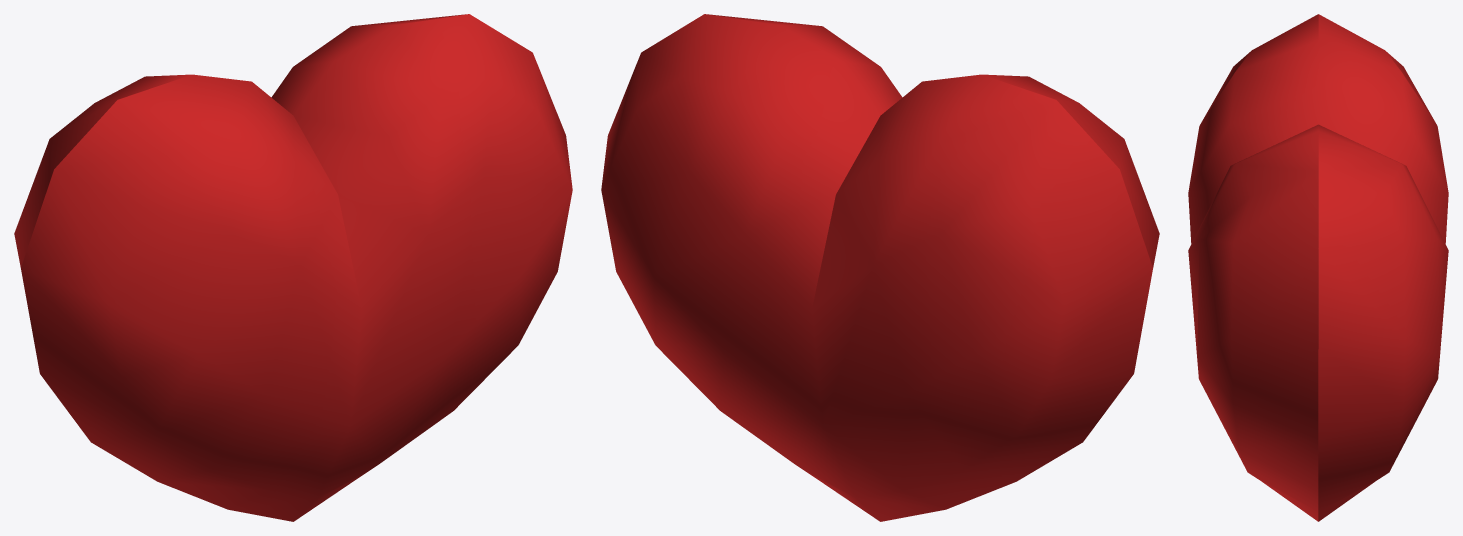
3 renders of one model, left to right at view 1: azimuth 30°, elevation 25°; view 2: azimuth 150°, elevation 25°; view 3: azimuth 270°, elevation 25°, orthographic. The views are drawn at different scales.
Visible parts, largest first — view 1: model_0.047; view 2: model_0.047; view 3: model_0.047.
Boxes of the visible parts, x1=… form: model_0.047: x1=14, y1=14, x2=572, y2=521; model_0.047: x1=601, y1=14, x2=1159, y2=521; model_0.047: x1=1188, y1=14, x2=1448, y2=521.
Size of the model in its own units: 4.09 by 3.39 by 1.85.
